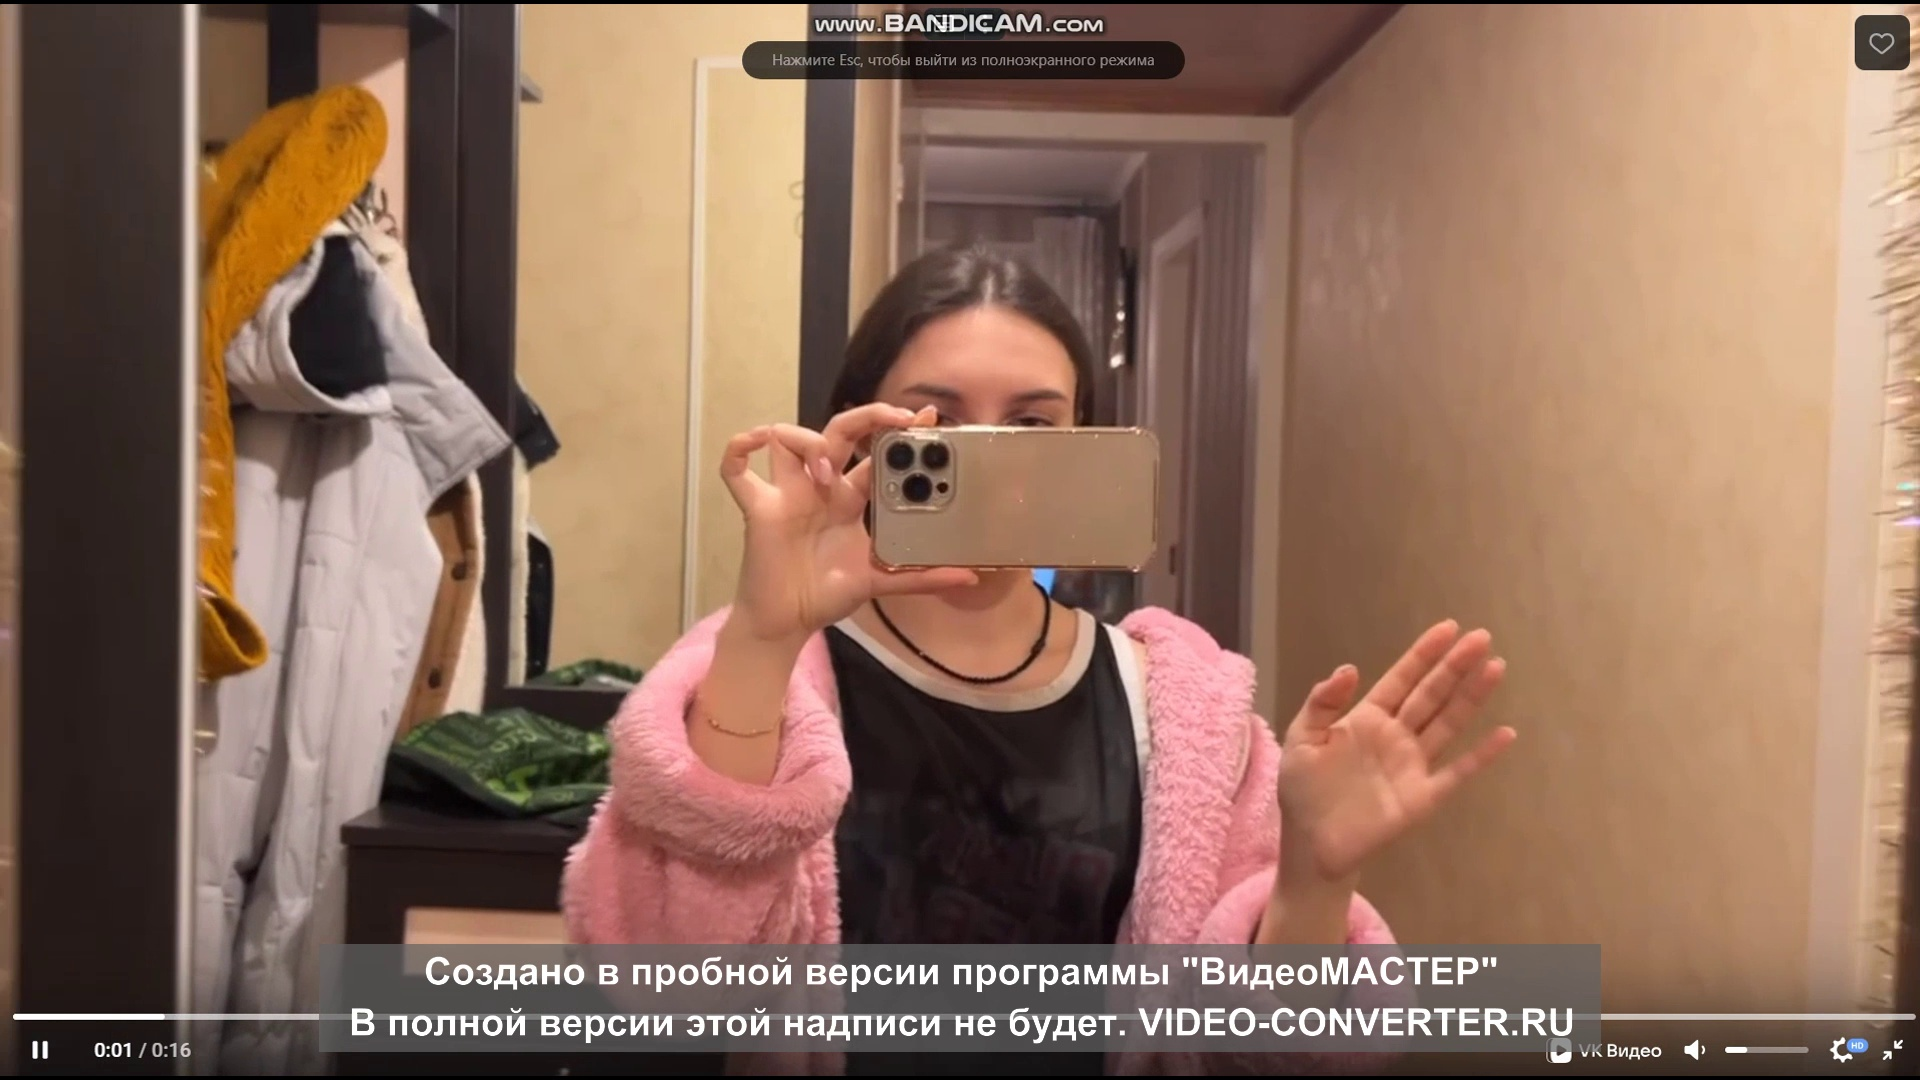Ладонь: (1275, 616, 1523, 874)
